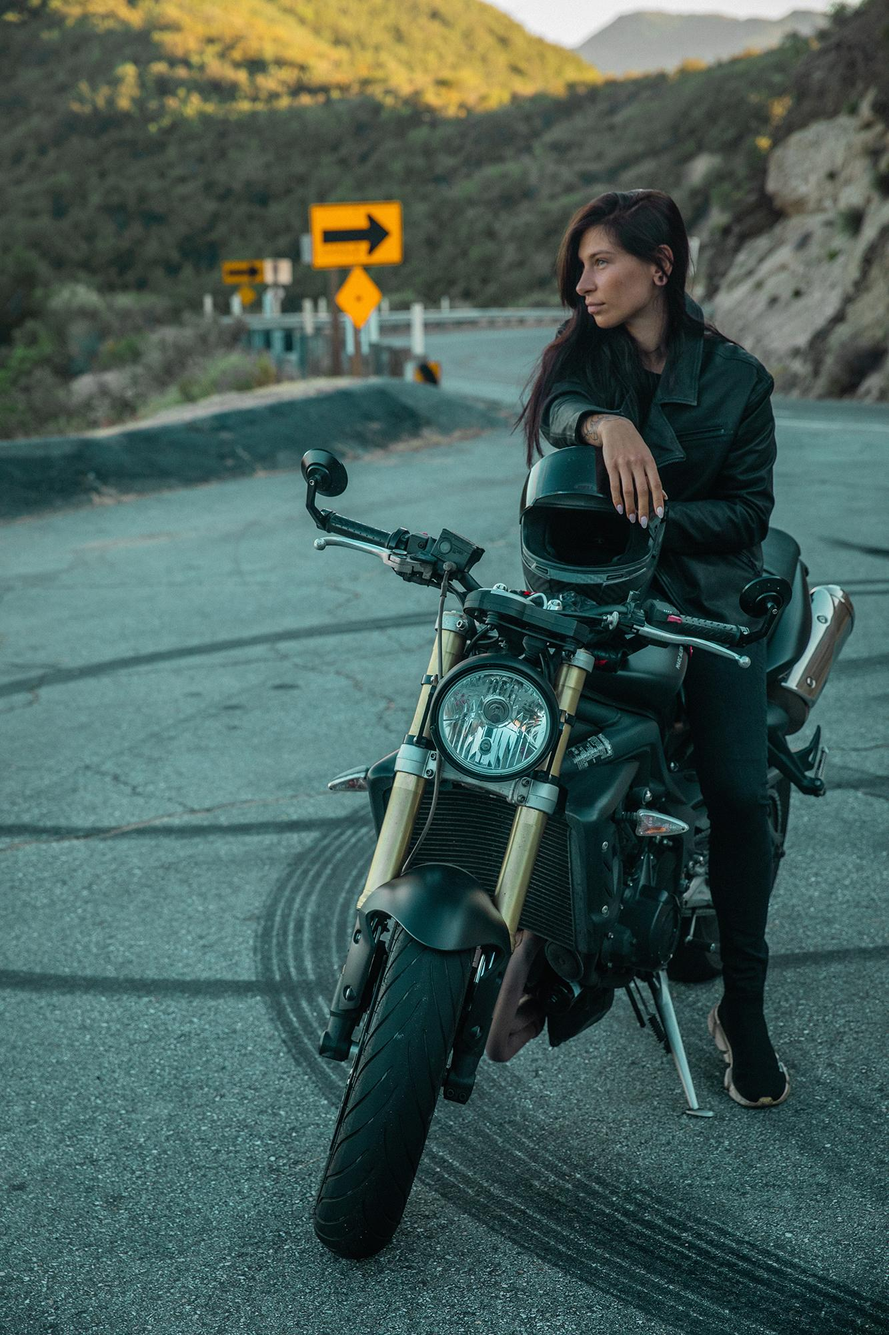helmet: (518, 443, 670, 620)
nohelmet: (556, 187, 691, 336)
